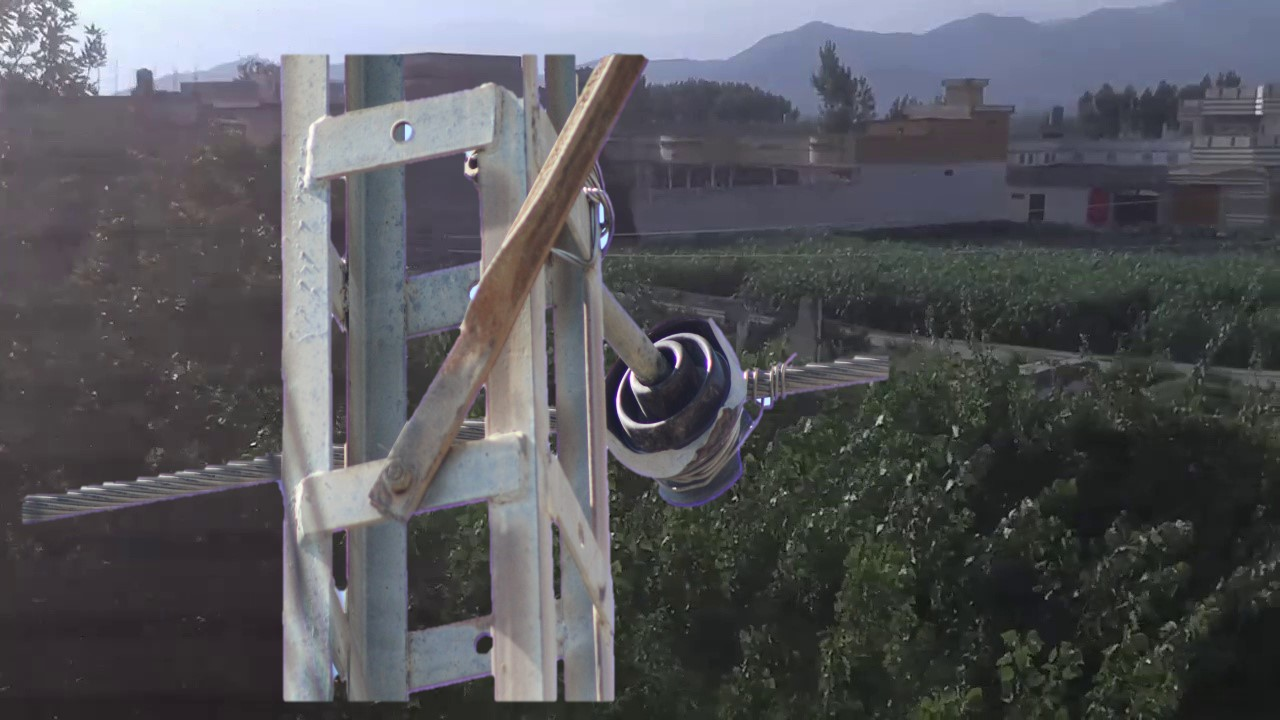defect_pin: (597, 311, 773, 521)
